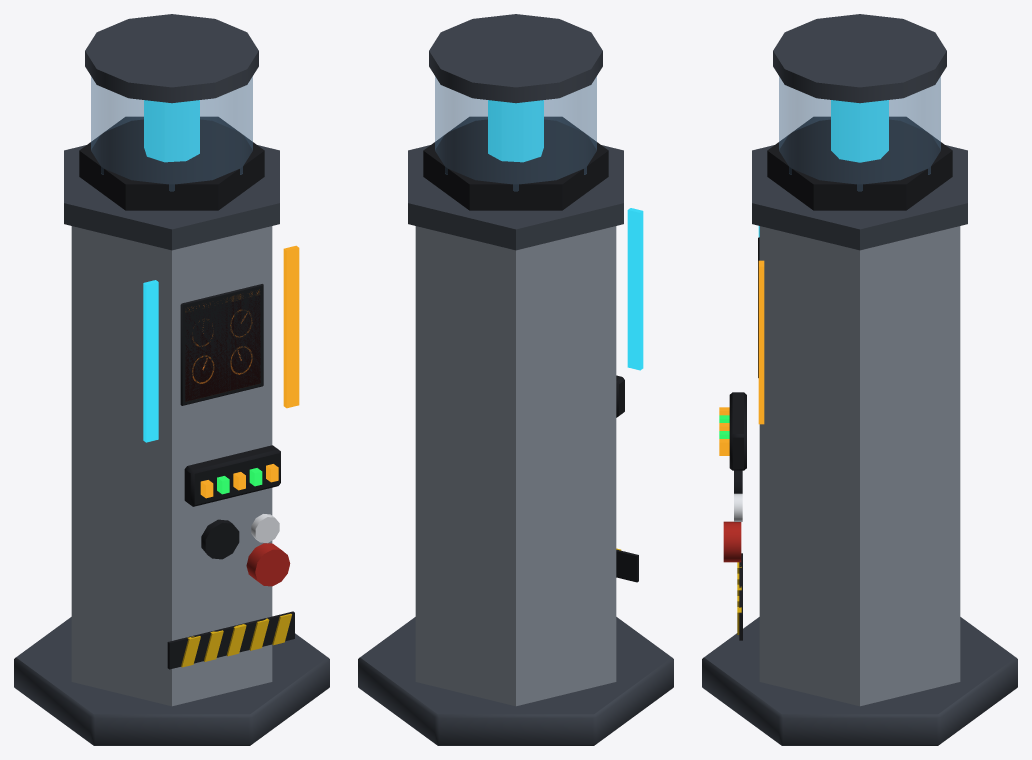
The model's file is reactor_reactor_control_pillar.glb.
The picture shows the model from 3 angles, left to right: view 1: azimuth 30°, elevation 25°; view 2: azimuth 150°, elevation 25°; view 3: azimuth 270°, elevation 25°; orthographic projection.
Visible parts, largest first — view 1: reactor_reactor_control_pillar; view 2: reactor_reactor_control_pillar; view 3: reactor_reactor_control_pillar.
Boxes of the visible parts, x1=… form: reactor_reactor_control_pillar: x1=14, y1=14, x2=329, y2=745; reactor_reactor_control_pillar: x1=358, y1=14, x2=673, y2=745; reactor_reactor_control_pillar: x1=702, y1=14, x2=1017, y2=745.
Bounding box in the file's own units: 0.9526 × 2.43 × 1.09.
Materials: 11 (1 with a texture image).
